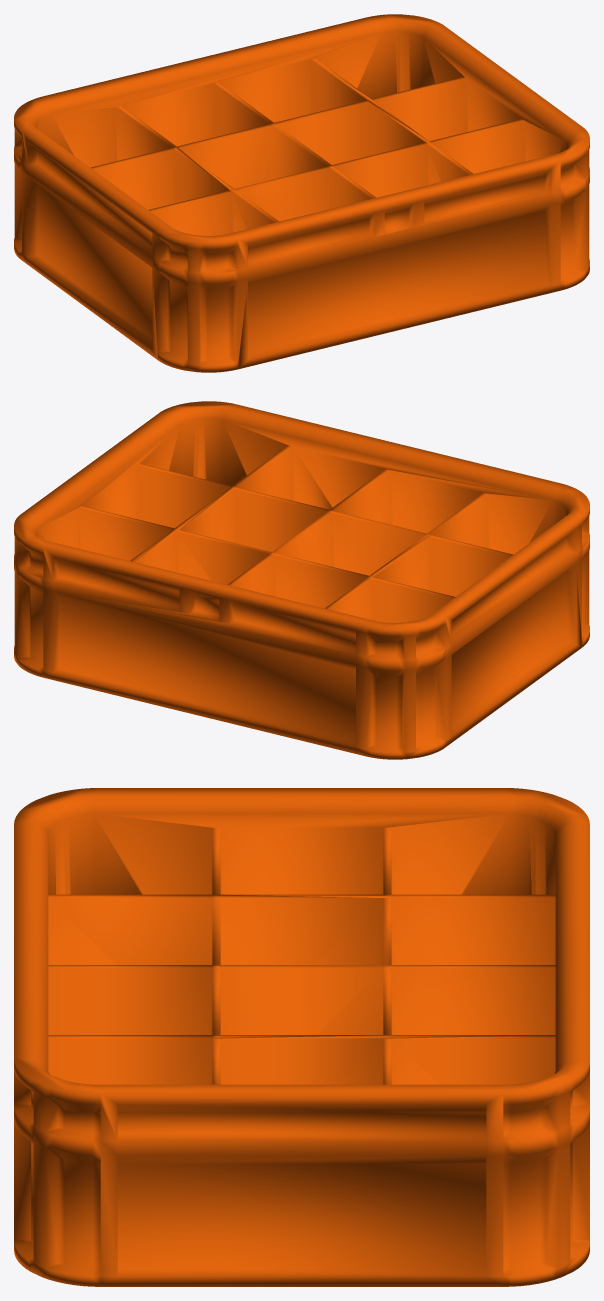
Rendered from battery_container.glb.
3 renders of one model, top to bottom at view 1: azimuth 30°, elevation 25°; view 2: azimuth 150°, elevation 25°; view 3: azimuth 270°, elevation 25°, orthographic. The views are drawn at different scales.
Parts seen in each view (by area): view 1: beer_crate_AA-embossed; view 2: beer_crate_AA-embossed; view 3: beer_crate_AA-embossed.
Boxes of the visible parts, x1=… form: beer_crate_AA-embossed: x1=14, y1=14, x2=589, y2=372; beer_crate_AA-embossed: x1=14, y1=401, x2=589, y2=759; beer_crate_AA-embossed: x1=14, y1=788, x2=589, y2=1286.
Bounding box in the file's own units: 18.15 × 5.34 × 14.43.
